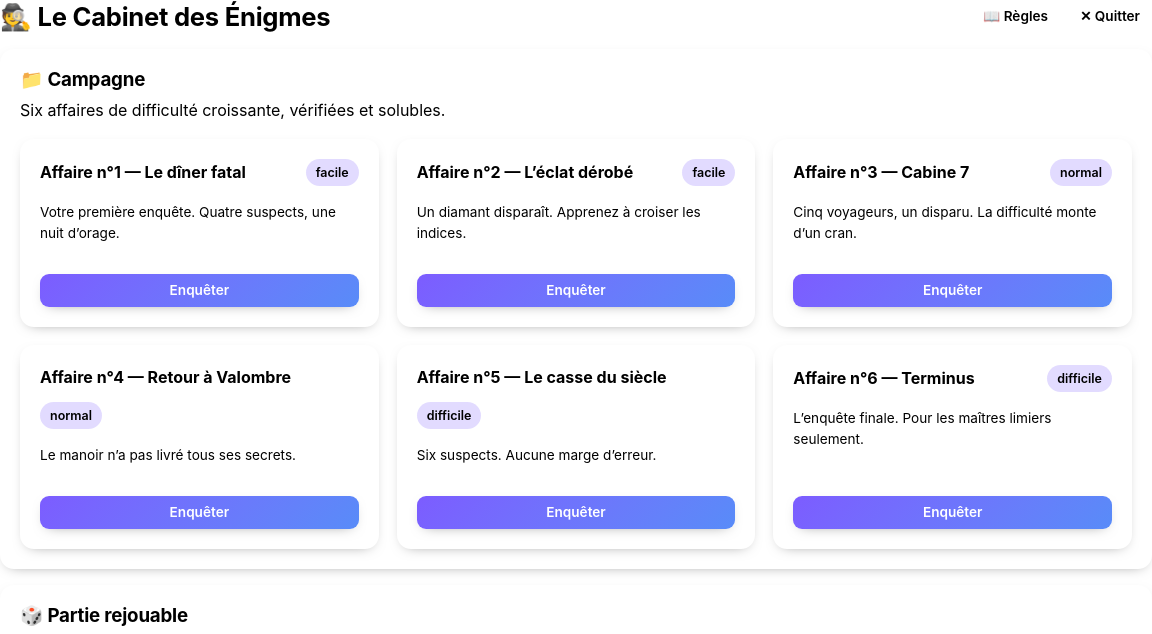
Test case: EnqueteGame integration › solves the first campaign case by accusing the right suspect
Start the first campaign case.
Click the button "Enquêter" below "Affaire n°1 — Le dîner fatal": (199, 290) [40,274,359,307]
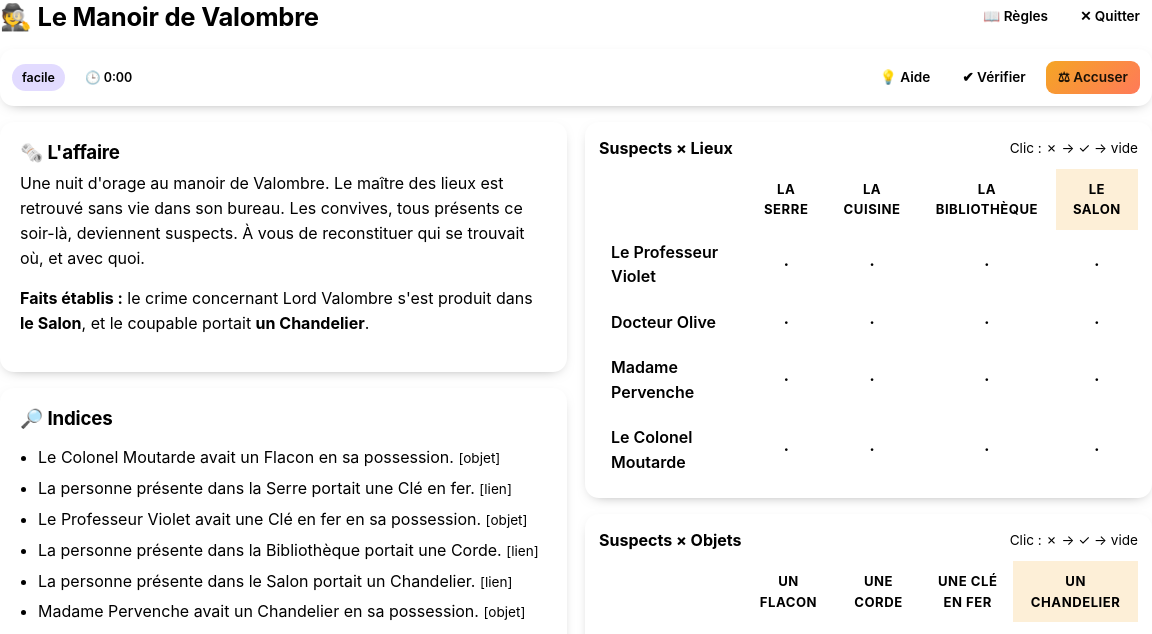
Board renders with the accuse action.
Click the button "⚖ Accuser": (1093, 78) [1046,61,1140,94]
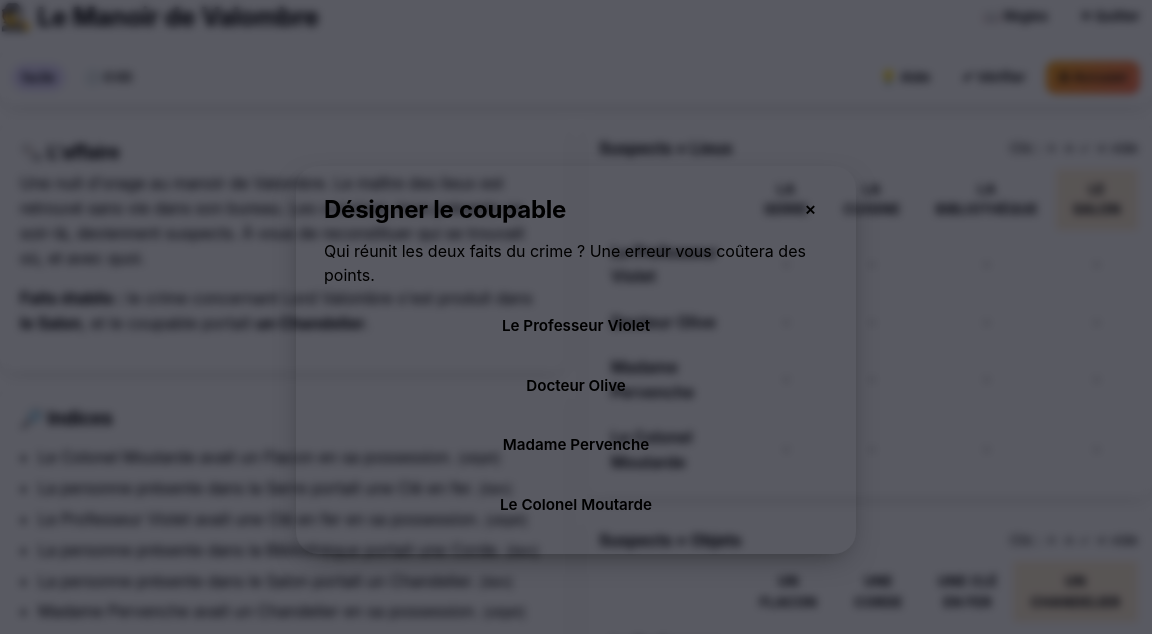
Click the button "Madame Pervenche": (576, 445) [324,423,828,467]
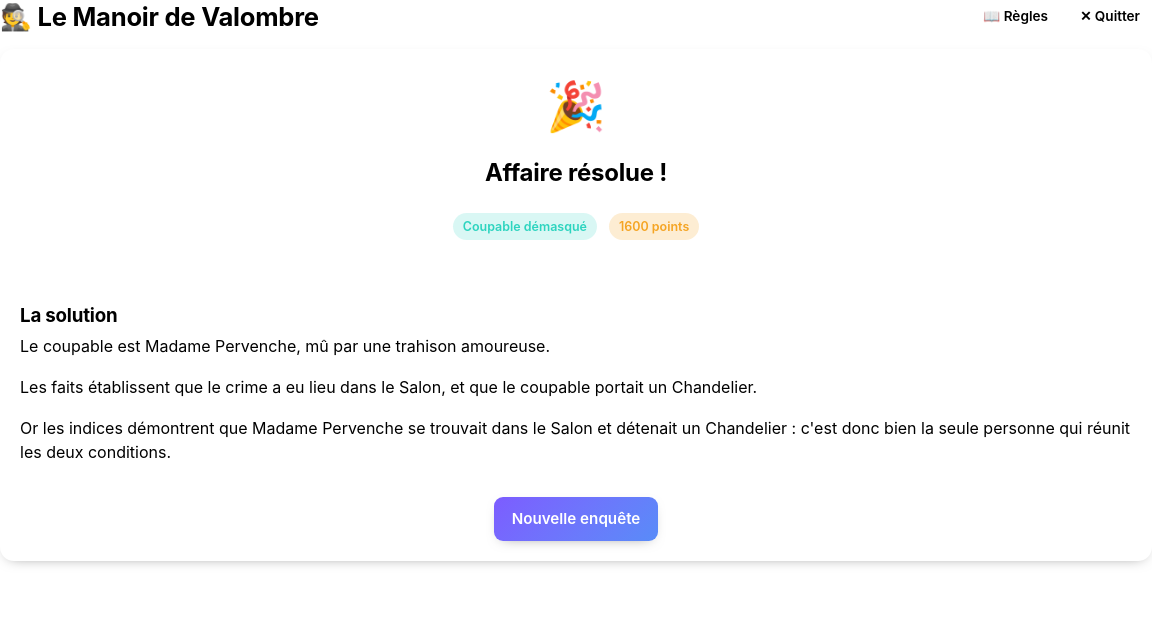
expect the heading "Affaire résolue !" is shown: met, box [485,158,667,188]
